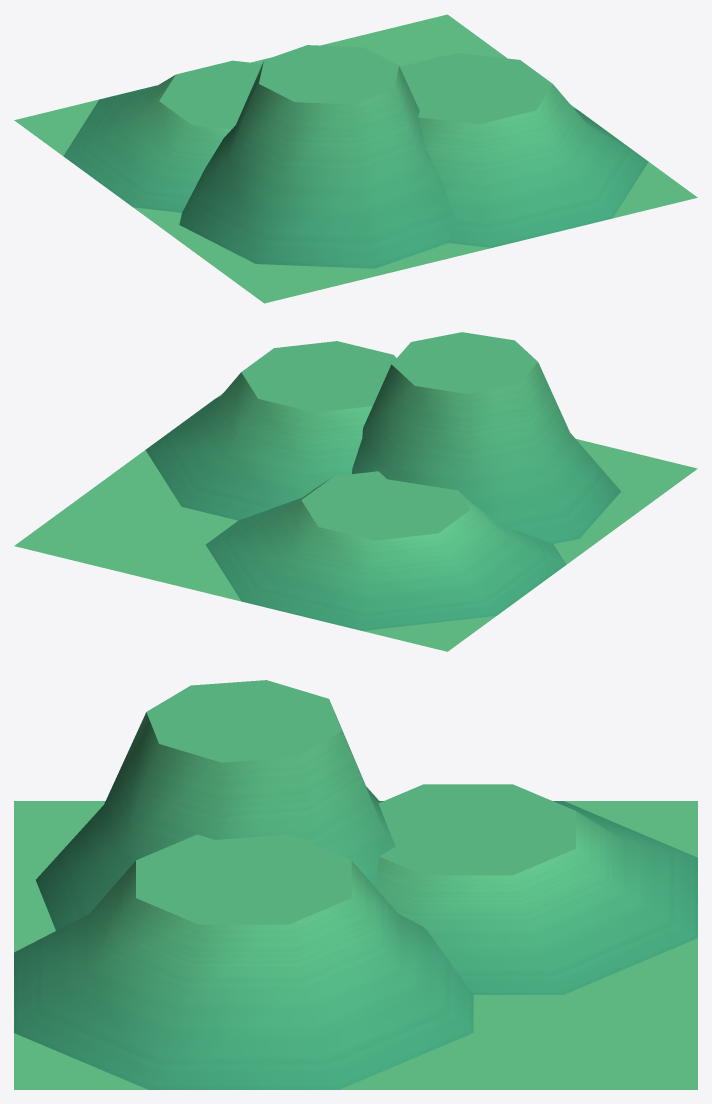
The model's file is ground-hills.fbx.
The picture shows the model from 3 angles, top to bottom: view 1: azimuth 30°, elevation 25°; view 2: azimuth 150°, elevation 25°; view 3: azimuth 270°, elevation 25°; orthographic projection. The views are drawn at different scales.
Visible parts, largest first — view 1: ground-hills; view 2: ground-hills; view 3: ground-hills.
Part boxes in pixels (box(x1,y1,x2,y2)): ground-hills: box(14, 14, 697, 303); ground-hills: box(14, 332, 697, 651); ground-hills: box(14, 680, 697, 1089).
Bounding box in the file's own units: 1 × 1 × 0.2883.
